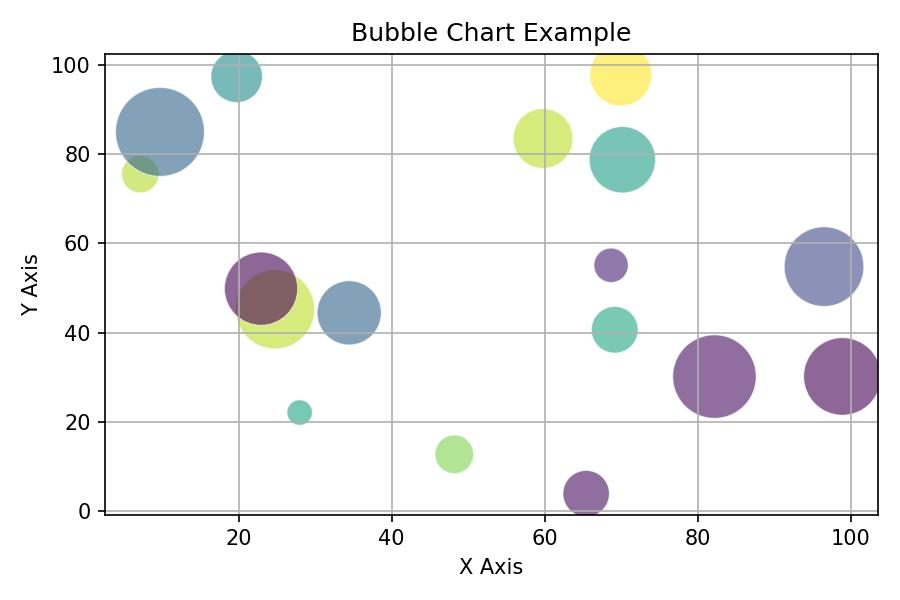axis: (69, 504, 890, 555), (49, 34, 118, 557)
circle: (117, 87, 204, 174), (670, 333, 758, 416), (783, 225, 868, 306), (803, 335, 880, 415), (239, 273, 314, 348), (224, 251, 298, 324), (588, 126, 658, 193), (319, 282, 381, 343), (517, 109, 574, 168), (591, 51, 651, 104), (209, 53, 264, 103), (560, 468, 612, 514), (591, 305, 639, 352), (435, 432, 475, 473), (121, 156, 161, 194), (594, 248, 631, 284), (285, 400, 311, 424)
